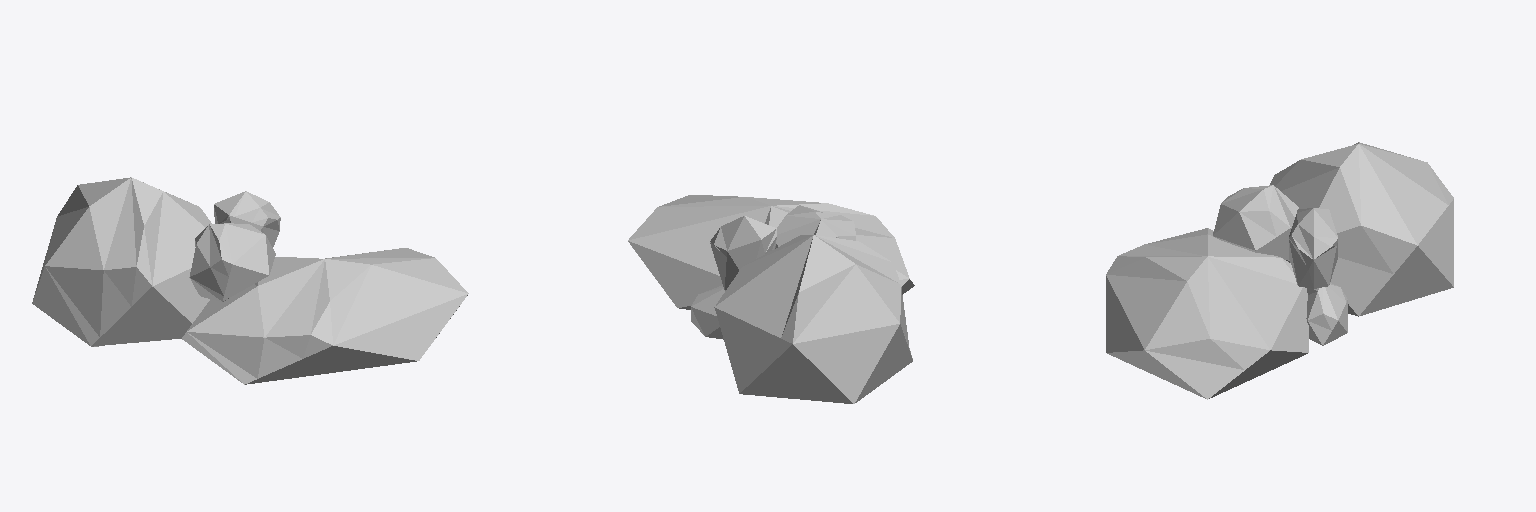
Rendered from largeRocks.obj.
3 views of the same model, side by side, from view 1: azimuth 30°, elevation 25°; view 2: azimuth 150°, elevation 25°; view 3: azimuth 270°, elevation 25° (orthographic).
Visible parts, largest first — view 1: largeRocks; view 2: largeRocks; view 3: largeRocks.
Boxes of the visible parts, x1,y1,x2,y2 form: largeRocks: [32, 177, 468, 384]; largeRocks: [628, 195, 914, 403]; largeRocks: [1106, 142, 1453, 399].
Bounding box in the file's own units: 2.82 × 1.11 × 2.48.